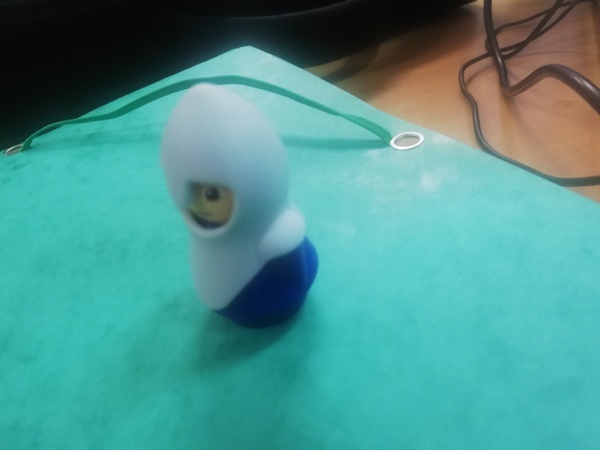personBlue: (165, 91, 321, 325)
